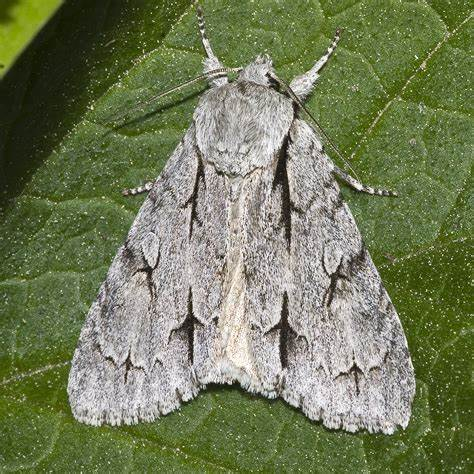Noctuidae: (63, 12, 417, 435)
